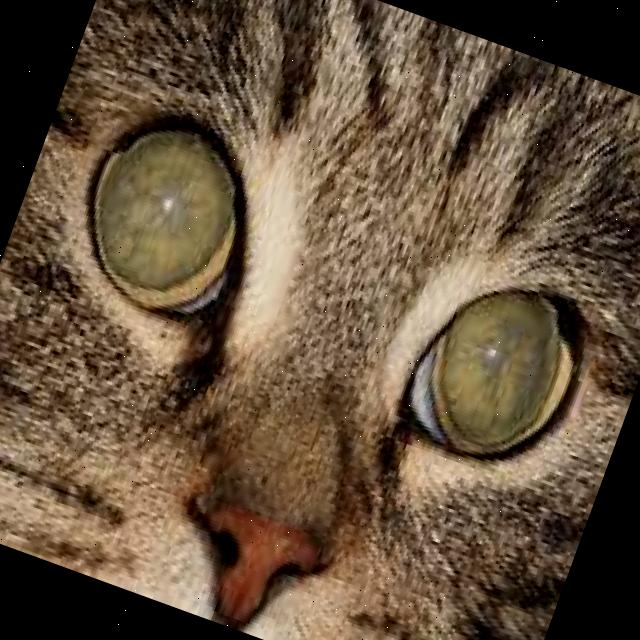cat-eye: (46, 82, 296, 350), (374, 238, 620, 503)
